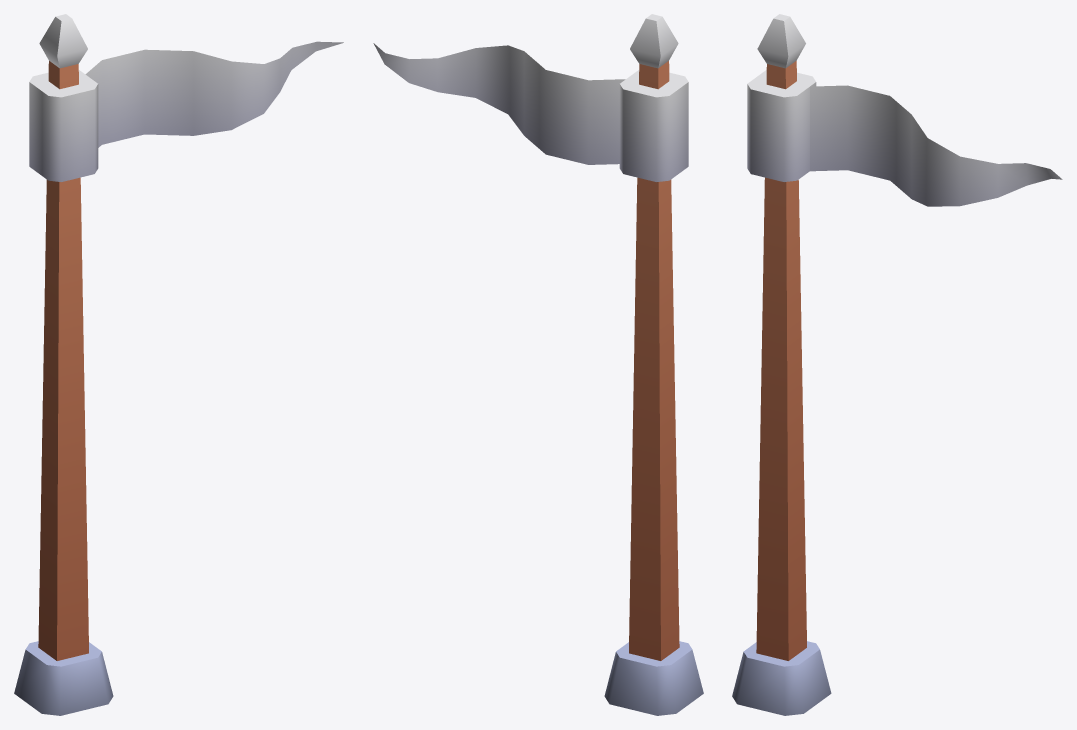
The model's file is pk_flag-high-pennant.glb.
The picture shows the model from 3 angles, left to right: view 1: azimuth 30°, elevation 25°; view 2: azimuth 150°, elevation 25°; view 3: azimuth 330°, elevation 25°; orthographic projection.
Visible parts, largest first — view 1: flag-high-pennant; view 2: flag-high-pennant; view 3: flag-high-pennant.
Boxes of the visible parts, x1=… form: flag-high-pennant: x1=14, y1=14, x2=343, y2=715; flag-high-pennant: x1=373, y1=14, x2=703, y2=715; flag-high-pennant: x1=732, y1=14, x2=1062, y2=715.
Size of the model in its own units: 1.76 by 3.6 by 0.3989.
Materials: 1 (1 with a texture image).
